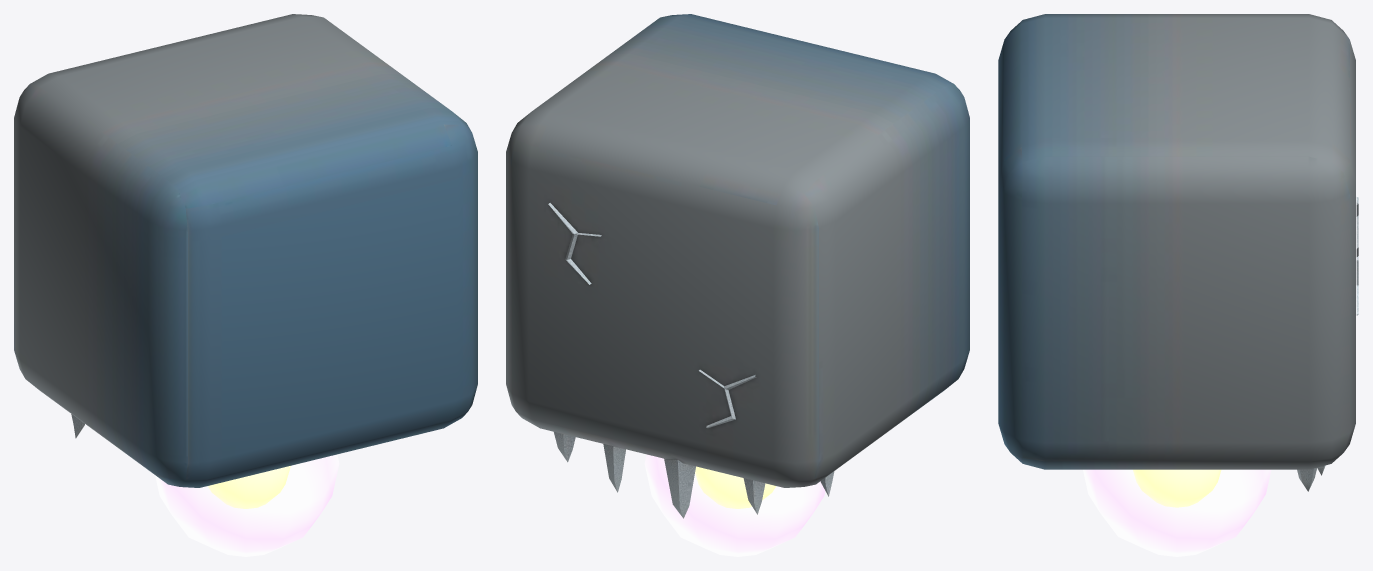
The picture shows the model from 3 angles, left to right: view 1: azimuth 30°, elevation 25°; view 2: azimuth 150°, elevation 25°; view 3: azimuth 270°, elevation 25°; orthographic projection. The views are drawn at different scales.
Visible parts, largest first — view 1: Frost_white_to_sky_blue_ice, glow_Soft_lavender_luminous_core, glow_Lemon_luminous_heart; view 2: Frost_white_to_sky_blue_ice, glow_Soft_lavender_luminous_core, Glossy_frost_and_sugar_ridges, glow_Lemon_luminous_heart; view 3: Frost_white_to_sky_blue_ice, glow_Soft_lavender_luminous_core, glow_Lemon_luminous_heart, Glossy_frost_and_sugar_ridges.
Part boxes in pixels (bbox=[...]): Frost_white_to_sky_blue_ice: bbox=[14, 14, 477, 487]; glow_Soft_lavender_luminous_core: bbox=[155, 454, 339, 556]; glow_Lemon_luminous_heart: bbox=[208, 466, 290, 508]; Frost_white_to_sky_blue_ice: bbox=[506, 14, 969, 487]; glow_Soft_lavender_luminous_core: bbox=[644, 454, 825, 556]; Glossy_frost_and_sugar_ridges: bbox=[548, 203, 834, 518]; glow_Lemon_luminous_heart: bbox=[695, 466, 775, 508]; Frost_white_to_sky_blue_ice: bbox=[998, 14, 1355, 469]; glow_Soft_lavender_luminous_core: bbox=[1083, 469, 1271, 556]; glow_Lemon_luminous_heart: bbox=[1133, 469, 1221, 507]; Glossy_frost_and_sugar_ridges: bbox=[1297, 197, 1358, 491].
Size of the model in its own units: 0.86 by 1.16 by 0.806.
Materials: 4 (2 with a texture image).
